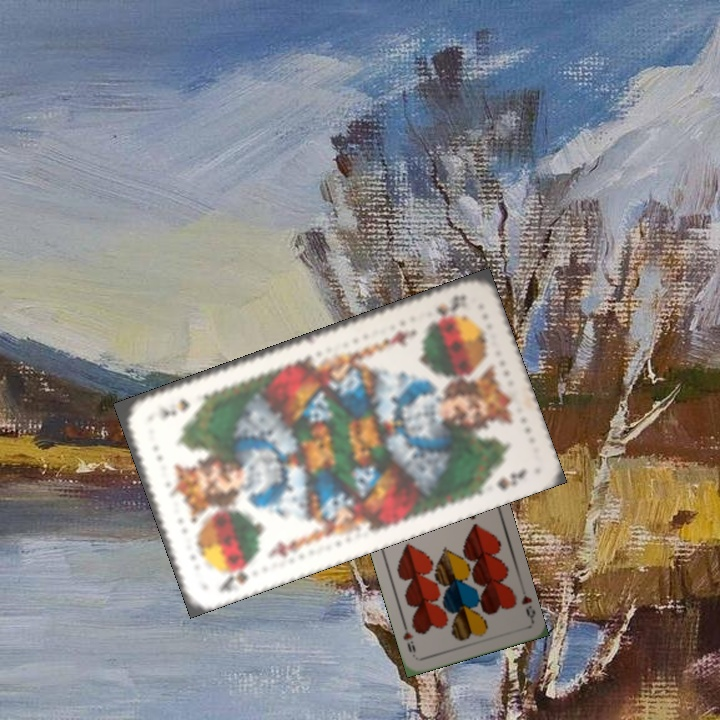H9: (517, 591, 538, 623)
SK: (215, 558, 255, 595), (432, 290, 470, 322)
